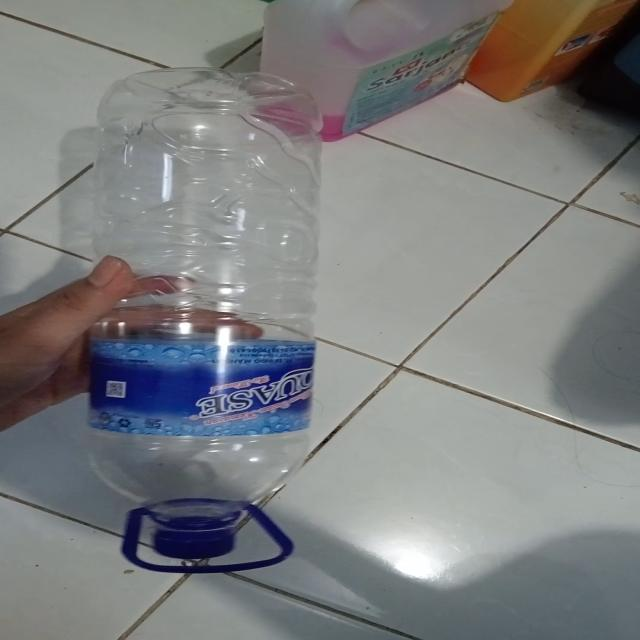Botol bekas: (82, 66, 324, 519)
